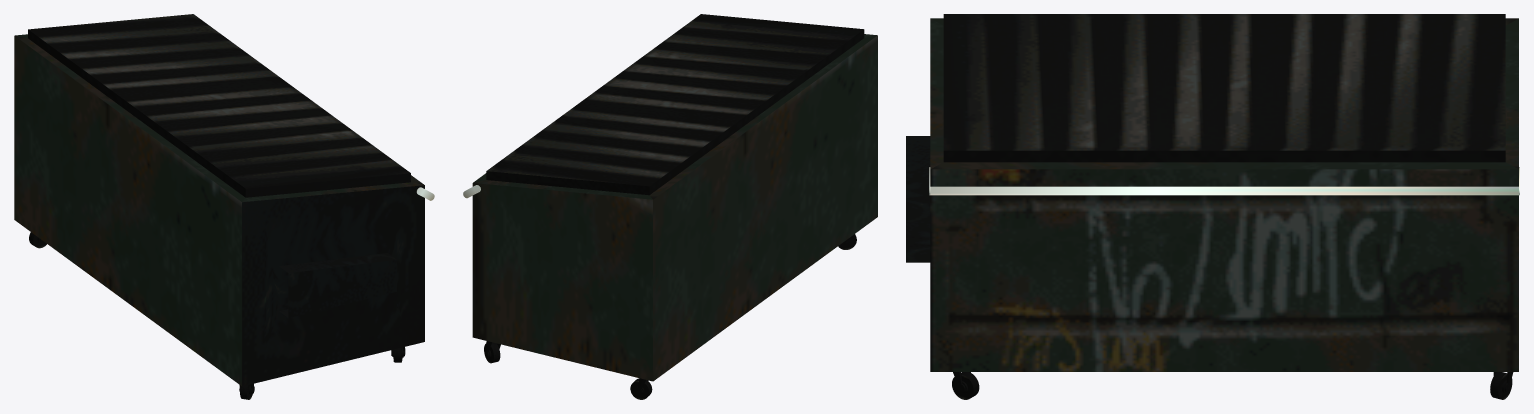
The model's file is psx_style_garbage_container.glb.
3 renders of one model, left to right at view 1: azimuth 30°, elevation 25°; view 2: azimuth 150°, elevation 25°; view 3: azimuth 270°, elevation 25°, orthographic. The views are drawn at different scales.
Visible parts, largest first — view 1: Cube; view 2: Cube, Cylinder.001; view 3: Cube, Cylinder.004, Cylinder, Cylinder.003.
Part boxes in pixels (x1,y1,x2,y2): Cube: [14, 14, 424, 386]; Cube: [472, 14, 877, 381]; Cylinder.001: [630, 378, 652, 399]; Cube: [906, 14, 1518, 371]; Cylinder.004: [929, 167, 1519, 195]; Cylinder: [952, 372, 979, 399]; Cylinder.003: [1490, 372, 1513, 399].
Bounding box in the file's own units: 0.9744 × 1.06 × 2.09.
Materials: 1 (1 with a texture image).
